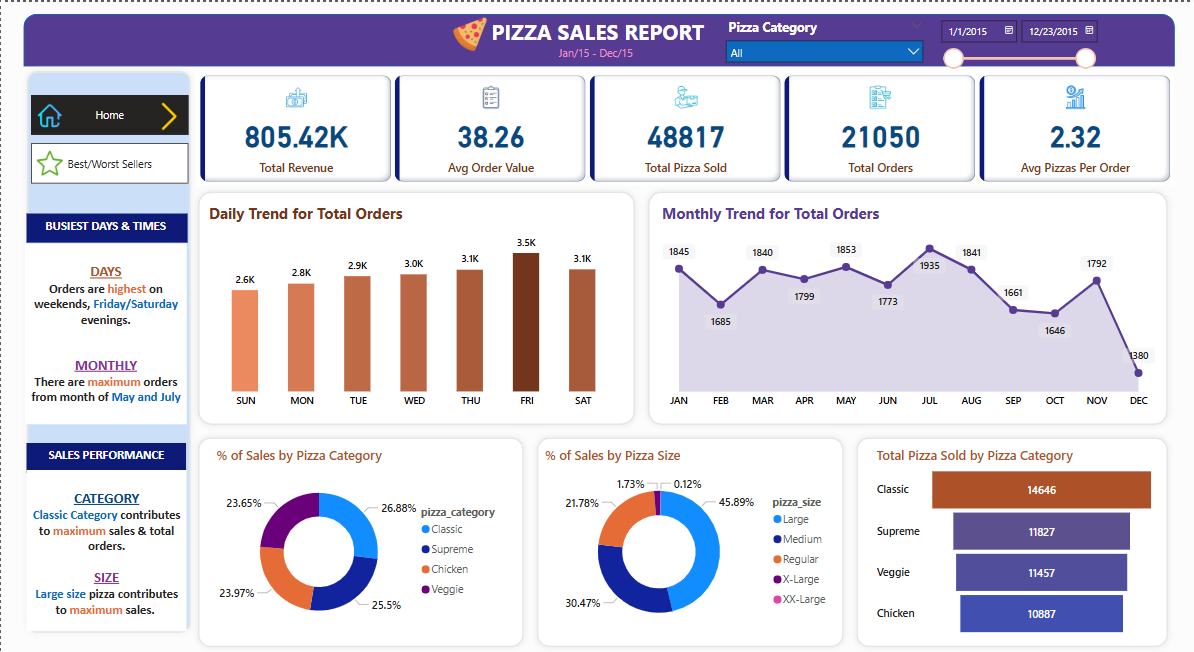

Layout of this report page (visuals, bound fields, positions):
{"tool":"powerbi","page":{"name":"Home","canvas":[1500,820],"ordinal":0},"visuals":[{"type":"cardVisual","fields":{"Data":["pizza_sales.Total Revenue","pizza_sales.Avg Order Value","pizza_sales.Total Pizza Sold","pizza_sales.Total Orders","pizza_sales.Avg Pizzas Per Order"]},"box":[246,86,1230,144],"z":0},{"type":"shape","box":[28,14.9,1448,66],"z":1000},{"type":"textbox","box":[606,14,290,60],"z":2000},{"type":"textbox","box":[695.8,48.6,130.6,37.5],"z":3000},{"type":"image","box":[556,14,66,54],"z":4000},{"type":"shape","box":[240,230,566,310],"z":5000},{"type":"slicer","title":"Daily Trend for Total Orders","fields":{"Values":["pizza_sales.pizza_category"]},"box":[901.4,15.3,268.1,65.3],"z":6000},{"type":"shape","box":[806,230,670,310],"z":7000},{"type":"areaChart","title":"Monthly Trend for Total Orders","fields":{"Y":["pizza_sales.Total Orders"],"Category":["pizza_sales.Order Month"]},"box":[826,252,630,266],"z":8000},{"type":"shape","box":[240,540,426,280],"z":9000},{"type":"shape","box":[666,540,402,280],"z":10000},{"type":"shape","box":[1068,540,408,280],"z":11000},{"type":"donutChart","title":"% of Sales by Pizza Category","fields":{"Category":["pizza_sales.pizza_category"],"Y":["pizza_sales.Total Revenue"]},"box":[266,558,376,244],"z":12000},{"type":"donutChart","title":"% of Sales by Pizza Size","fields":{"Y":["pizza_sales.Total Revenue"],"Category":["pizza_sales.pizza_size"]},"box":[680,558,376,244],"z":13000},{"type":"funnel","title":"Total Pizza Sold by Pizza Category","fields":{"Category":["pizza_sales.pizza_category"],"Y":["pizza_sales.Total Pizza Sold"]},"box":[1096,558,360,244],"z":14000},{"type":"shape","box":[24,80,222,722],"z":15000},{"type":"group","id":"g1","title":"Group 1","box":[30.8,266.7,204.9,265.6],"z":16000},{"type":"textbox","box":[33.4,266.7,202.4,36.4],"z":16000,"group":"g1"},{"type":"textbox","box":[33.8,554.2,201,37.5],"z":16000,"group":"g2"},{"type":"textbox","box":[30.8,305.1,203.3,227.2],"z":17000,"group":"g1"},{"type":"group","id":"g2","title":"Group 2","box":[32.9,554.2,201.9,235.9],"z":17000},{"type":"textbox","box":[32.9,587.3,201.4,202.8],"z":17000,"group":"g2"},{"type":"slicer","title":"Daily Trend for Total Orders","fields":{"Values":["pizza_sales.order_date"]},"box":[1169.4,13.9,219.4,72.2],"z":18000},{"type":"columnChart","title":"Daily Trend for Total Orders","fields":{"Y":["pizza_sales.Total Orders"],"Category":["pizza_sales.Order Day"]},"box":[257.1,252.4,526.2,266.7],"z":19000},{"type":"pageNavigator","box":[37.7,116.9,198.7,50.6],"z":20000},{"type":"pageNavigator","box":[37.7,177.9,198.7,51.9],"z":21000},{"type":"image","box":[188.3,119.5,45.5,50.6],"z":22000},{"type":"image","box":[37.7,122.1,46.8,40.3],"z":23000},{"type":"image","box":[37.7,181.8,46.8,42.9],"z":24000}]}

Visuals, with their boxes in screenshot pixels (x1, y1, x2, y2), scaled from the page's 1500x820 canvas onto the 1194x652 screenshot:
cardVisual - pizza_sales.Total Revenue x pizza_sales.Avg Order Value: left=196, top=68, right=1175, bottom=183
shape: left=22, top=12, right=1175, bottom=64
textbox: left=482, top=11, right=713, bottom=59
textbox: left=554, top=39, right=658, bottom=68
image: left=443, top=11, right=495, bottom=54
shape: left=191, top=183, right=642, bottom=429
"Daily Trend for Total Orders" slicer: left=718, top=12, right=931, bottom=64
shape: left=642, top=183, right=1175, bottom=429
"Monthly Trend for Total Orders" areaChart: left=657, top=200, right=1159, bottom=412
shape: left=191, top=429, right=530, bottom=651
shape: left=530, top=429, right=850, bottom=651
shape: left=850, top=429, right=1175, bottom=651
"% of Sales by Pizza Category" donutChart: left=212, top=444, right=511, bottom=638
"% of Sales by Pizza Size" donutChart: left=541, top=444, right=841, bottom=638
"Total Pizza Sold by Pizza Category" funnel: left=872, top=444, right=1159, bottom=638
shape: left=19, top=64, right=196, bottom=638
"Group 1" group: left=25, top=212, right=188, bottom=423
textbox: left=27, top=212, right=188, bottom=241
textbox: left=27, top=441, right=187, bottom=470
textbox: left=25, top=243, right=186, bottom=423
"Group 2" group: left=26, top=441, right=187, bottom=628
textbox: left=26, top=467, right=187, bottom=628
"Daily Trend for Total Orders" slicer: left=931, top=11, right=1105, bottom=68
"Daily Trend for Total Orders" columnChart: left=205, top=201, right=624, bottom=413
pageNavigator: left=30, top=93, right=188, bottom=133
pageNavigator: left=30, top=141, right=188, bottom=183
image: left=150, top=95, right=186, bottom=135
image: left=30, top=97, right=67, bottom=129
image: left=30, top=145, right=67, bottom=179
